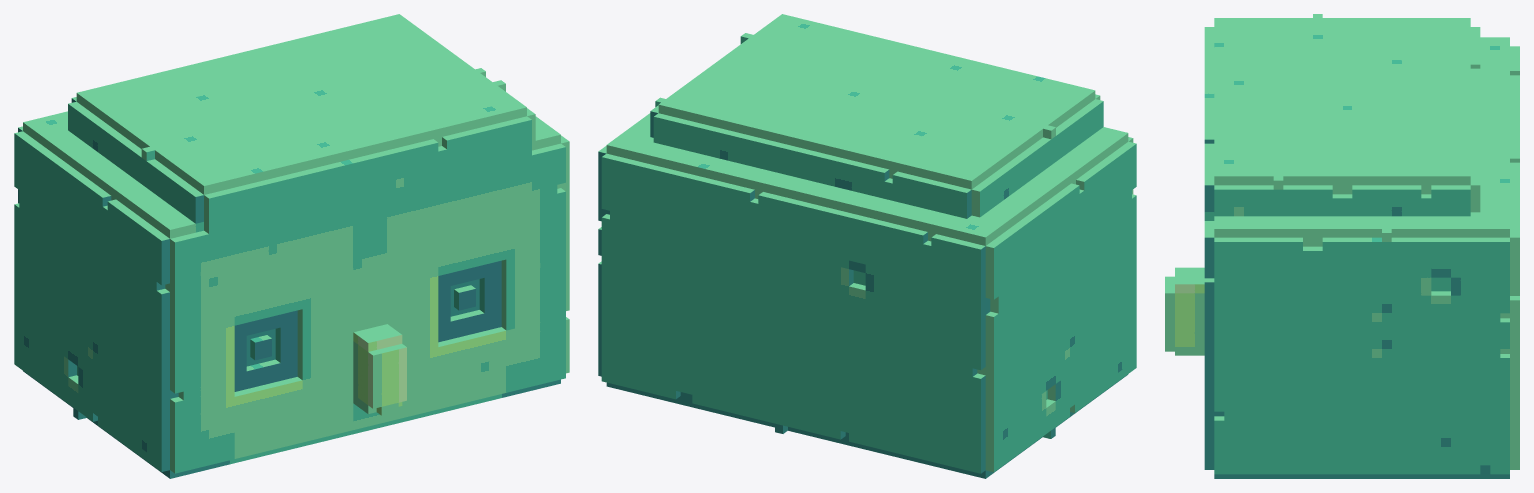
File: owl_statue_headao.fezao.glb
3 views of the same model, side by side, from view 1: azimuth 30°, elevation 25°; view 2: azimuth 150°, elevation 25°; view 3: azimuth 270°, elevation 25° (orthographic). The views are drawn at different scales.
Visible parts, largest first — view 1: OWL_STATUE_HEADAO; view 2: OWL_STATUE_HEADAO; view 3: OWL_STATUE_HEADAO.
Part boxes in pixels (left/top/right/bottom): OWL_STATUE_HEADAO: left=14, top=14, right=569, bottom=478; OWL_STATUE_HEADAO: left=598, top=14, right=1136, bottom=478; OWL_STATUE_HEADAO: left=1165, top=14, right=1519, bottom=478.
Bounding box in the file's own units: 3 × 2 × 2.25.
Materials: 1 (1 with a texture image).
